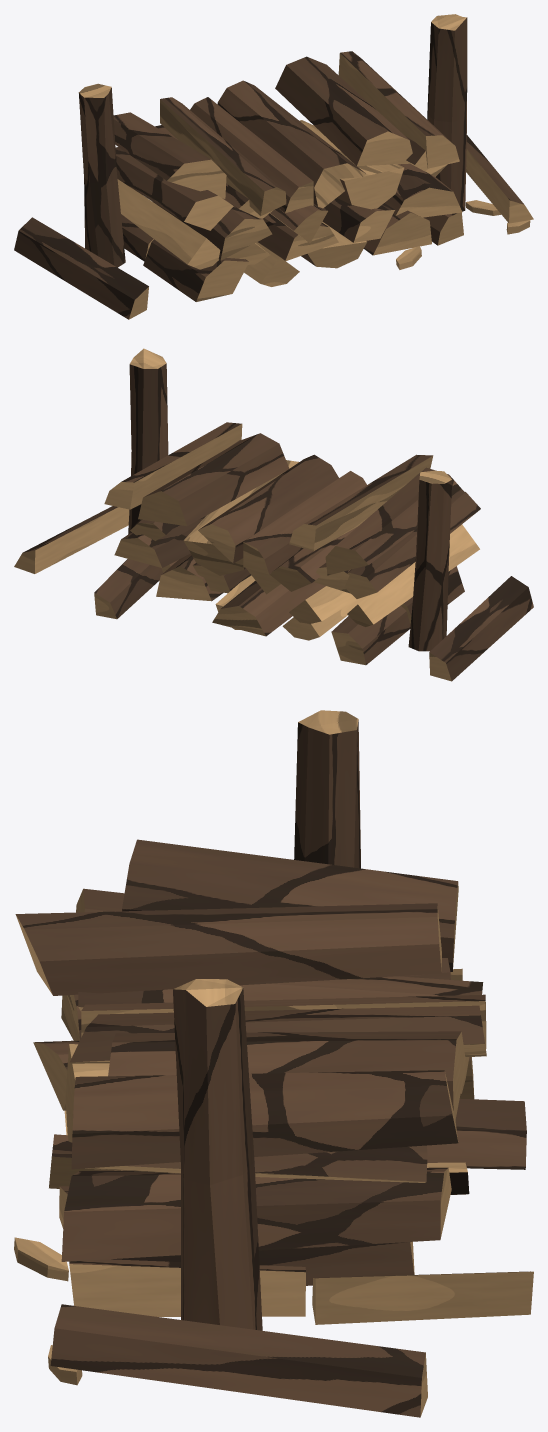
The model's file is SM_FirewoodPile.fbx.
3 renders of one model, top to bottom at view 1: azimuth 30°, elevation 25°; view 2: azimuth 150°, elevation 25°; view 3: azimuth 270°, elevation 25°, orthographic. The views are drawn at different scales.
Visible parts, largest first — view 1: SM_FirewoodPile; view 2: SM_FirewoodPile; view 3: SM_FirewoodPile.
Boxes of the visible parts, x1,y1,x2,y2 form: SM_FirewoodPile: (14, 14, 533, 319); SM_FirewoodPile: (14, 348, 533, 681); SM_FirewoodPile: (14, 710, 533, 1417).
Size of the model in its own units: 1.32 by 0.5382 by 0.6961.
